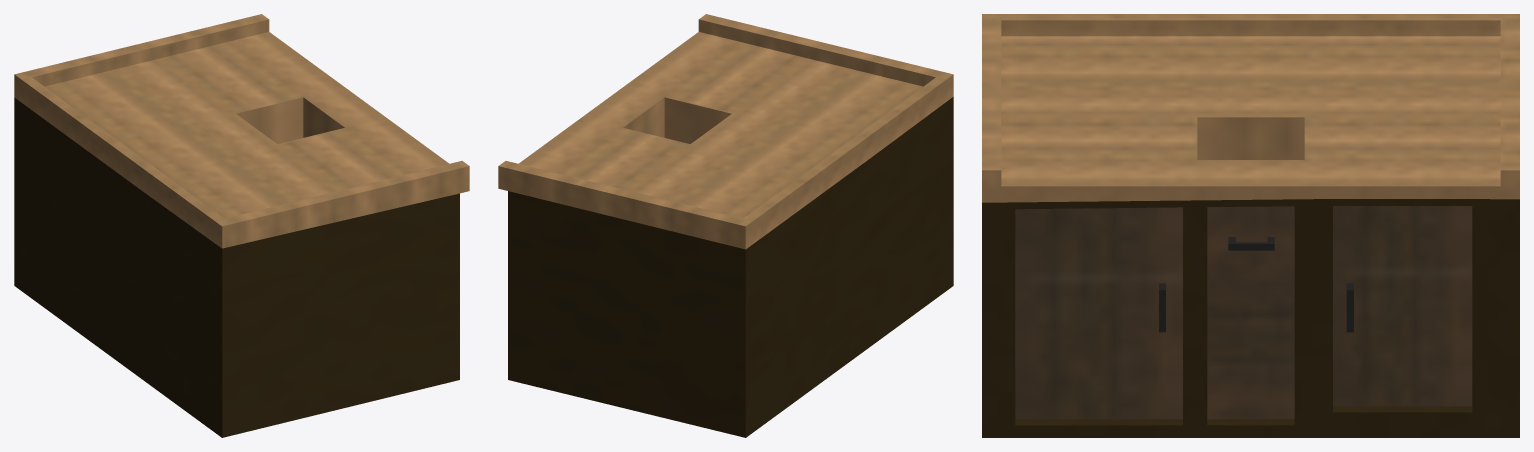
The model's file is self_service_station_finalized_01.fbx.
The picture shows the model from 3 angles, left to right: view 1: azimuth 30°, elevation 25°; view 2: azimuth 150°, elevation 25°; view 3: azimuth 270°, elevation 25°; orthographic projection. The views are drawn at different scales.
Parts seen in each view (by area): view 1: self_service_station; view 2: self_service_station; view 3: self_service_station.
Boxes of the visible parts, x1,y1,x2,y2 form: self_service_station: (14,14,469,437); self_service_station: (498,14,953,437); self_service_station: (982,14,1519,437).
Bounding box in the file's own units: 105 × 85.41 × 152.
4 materials, 4 textured.
